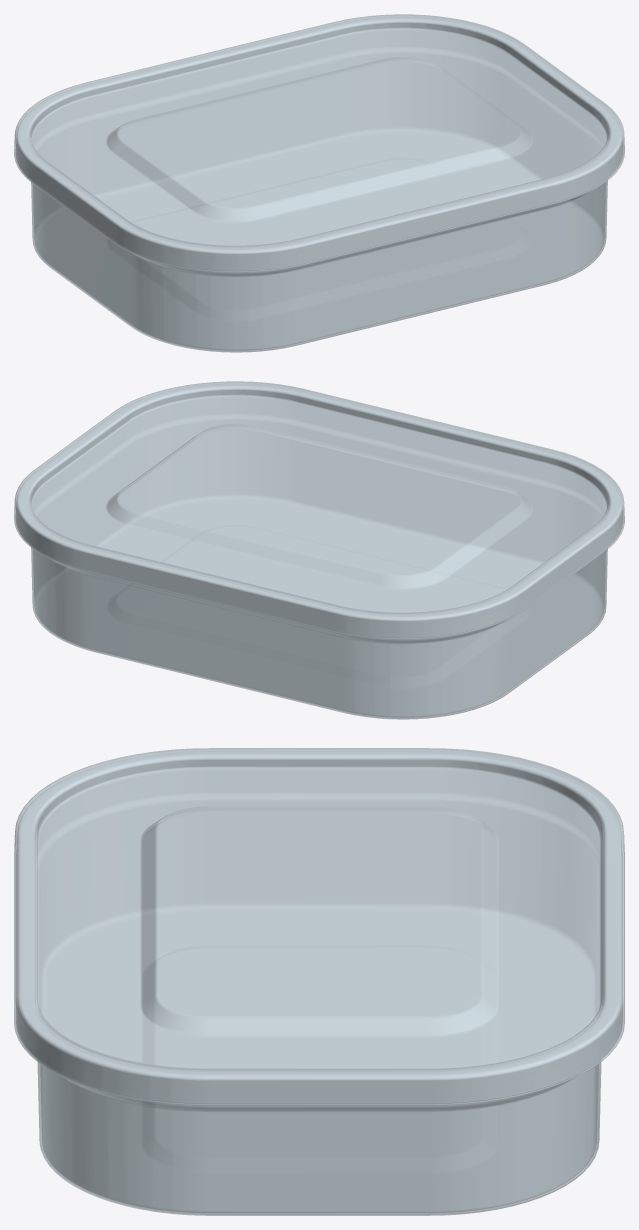
File: tupperlink-1000ml.glb
3 views of the same model, one above another, from view 1: azimuth 30°, elevation 25°; view 2: azimuth 150°, elevation 25°; view 3: azimuth 270°, elevation 25° (orthographic). The views are drawn at different scales.
Parts seen in each view (by area): view 1: base, tampa; view 2: base, tampa; view 3: base, tampa.
Boxes of the visible parts, left/top/right/bottom form: base: left=15, top=17, right=623, bottom=352; tampa: left=14, top=14, right=624, bottom=272; base: left=15, top=384, right=623, bottom=719; tampa: left=14, top=381, right=624, bottom=639; base: left=16, top=751, right=622, bottom=1215; tampa: left=14, top=748, right=624, bottom=1105.
Bounding box in the file's own units: 0.2139 × 0.0457 × 0.1669.
